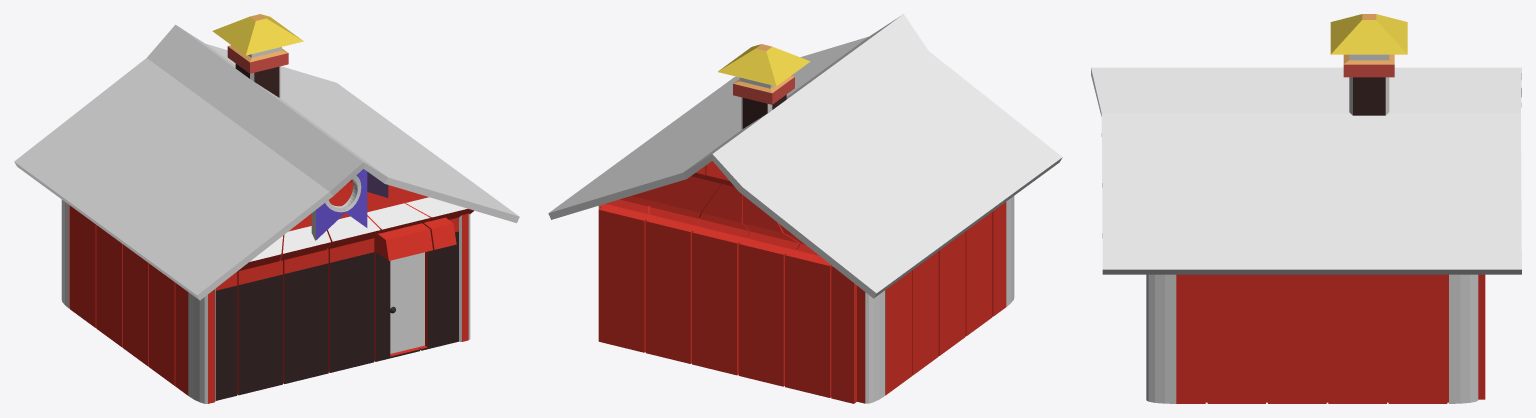
The model's file is house.fbx.
3 views of the same model, side by side, from view 1: azimuth 30°, elevation 25°; view 2: azimuth 150°, elevation 25°; view 3: azimuth 270°, elevation 25° (orthographic). The views are drawn at different scales.
Visible parts, largest first — view 1: Cube.001; view 2: Cube.001; view 3: Cube.001.
Part boxes in pixels (bbox=[...]): Cube.001: bbox=[14, 14, 519, 403]; Cube.001: bbox=[548, 14, 1062, 403]; Cube.001: bbox=[1091, 14, 1521, 403].
Size of the model in its own units: 2131 by 1762 by 2151.
